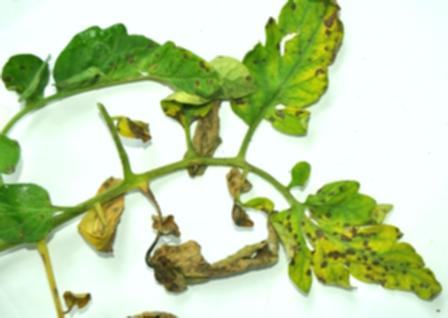Tomato Septoria leaf spot: (43, 19, 260, 119), (274, 182, 447, 304), (222, 3, 348, 142)
